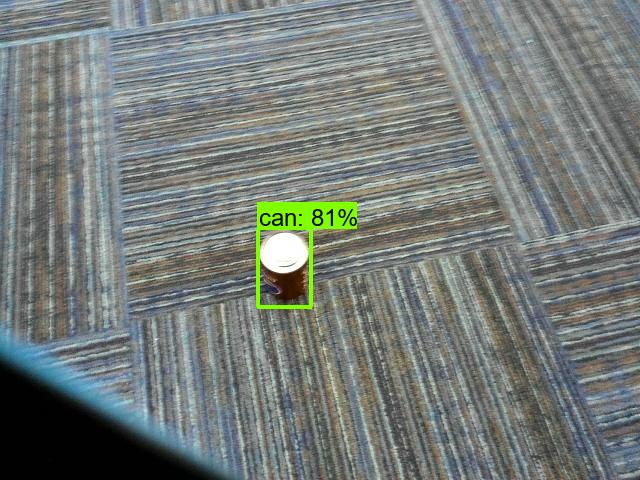can: (250, 229, 321, 306)
